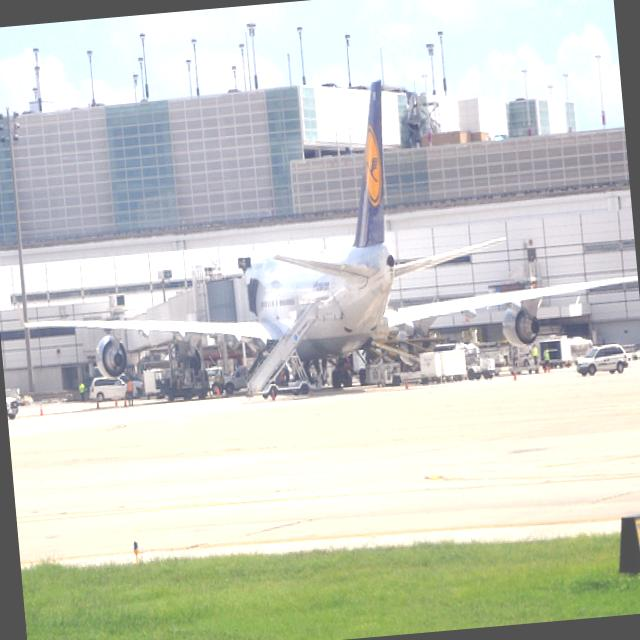Vehicle: (417, 338, 501, 386), (86, 370, 144, 403), (575, 342, 629, 377), (536, 336, 572, 372), (4, 388, 18, 420)
